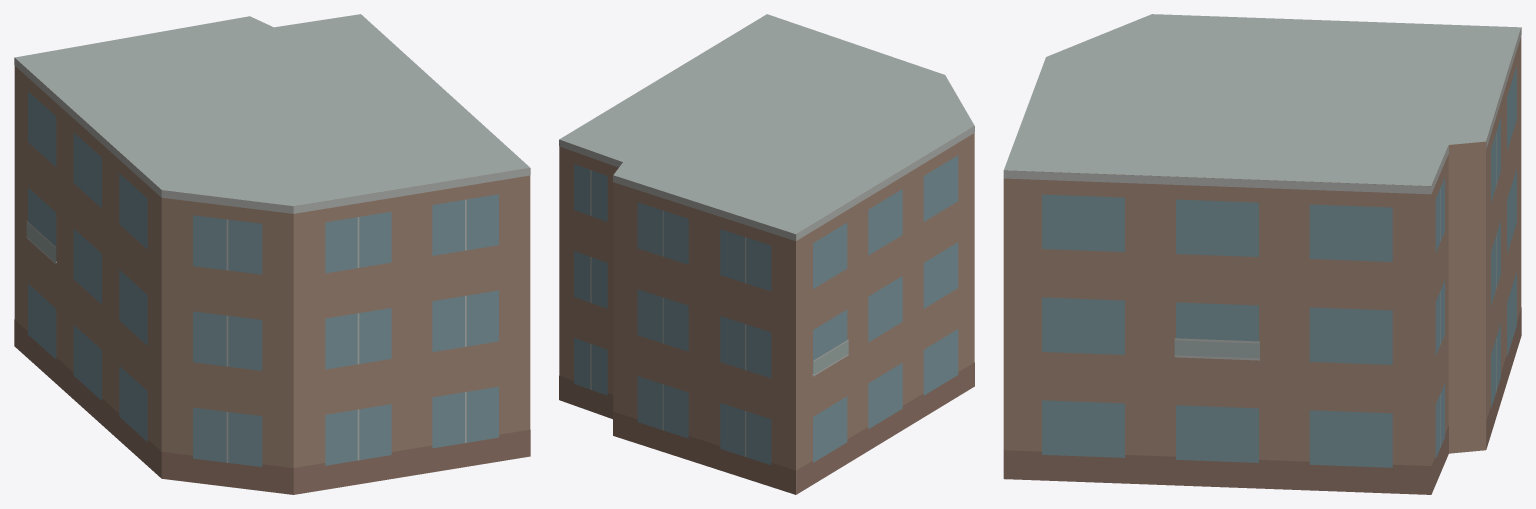
The model's file is survey-upis-32806147.glb.
The picture shows the model from 3 angles, left to right: view 1: azimuth 30°, elevation 25°; view 2: azimuth 150°, elevation 25°; view 3: azimuth 270°, elevation 25°; orthographic projection. The views are drawn at different scales.
Visible parts, largest first — view 1: survey-upis-32806147.tmp; view 2: survey-upis-32806147.tmp; view 3: survey-upis-32806147.tmp.
Boxes of the visible parts, <box> form: survey-upis-32806147.tmp: <box>14,14,530,494</box>; survey-upis-32806147.tmp: <box>559,14,974,494</box>; survey-upis-32806147.tmp: <box>1003,14,1521,494</box>.
Size of the model in its own units: 10.95 by 9.15 by 13.92.
